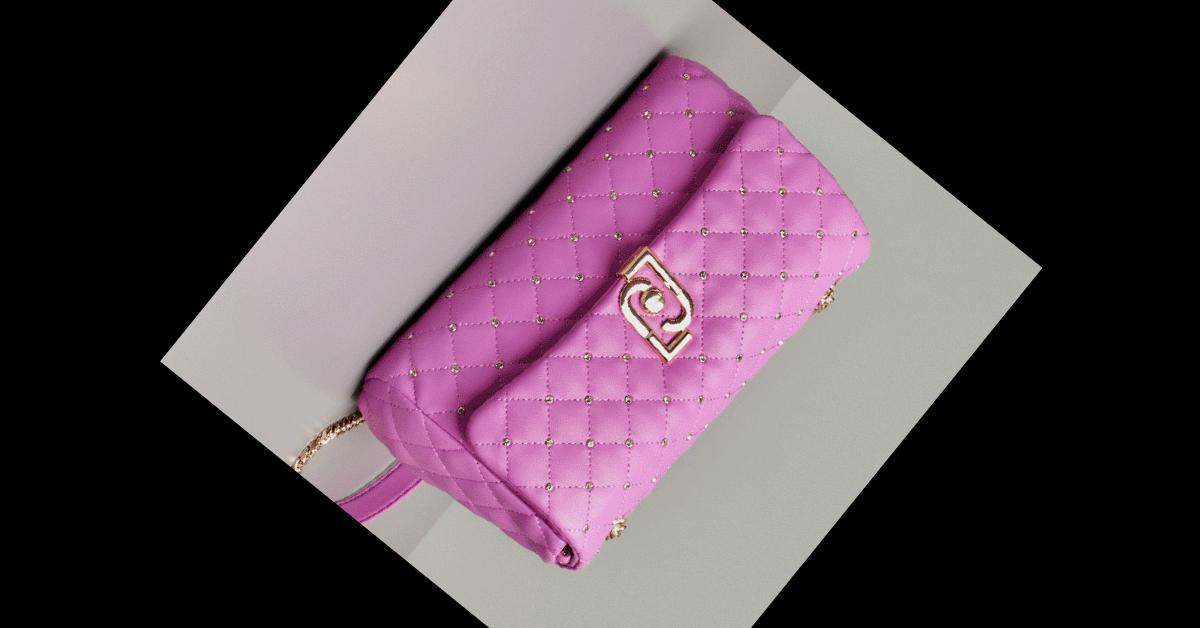LIU-JO: (590, 242, 718, 365)
